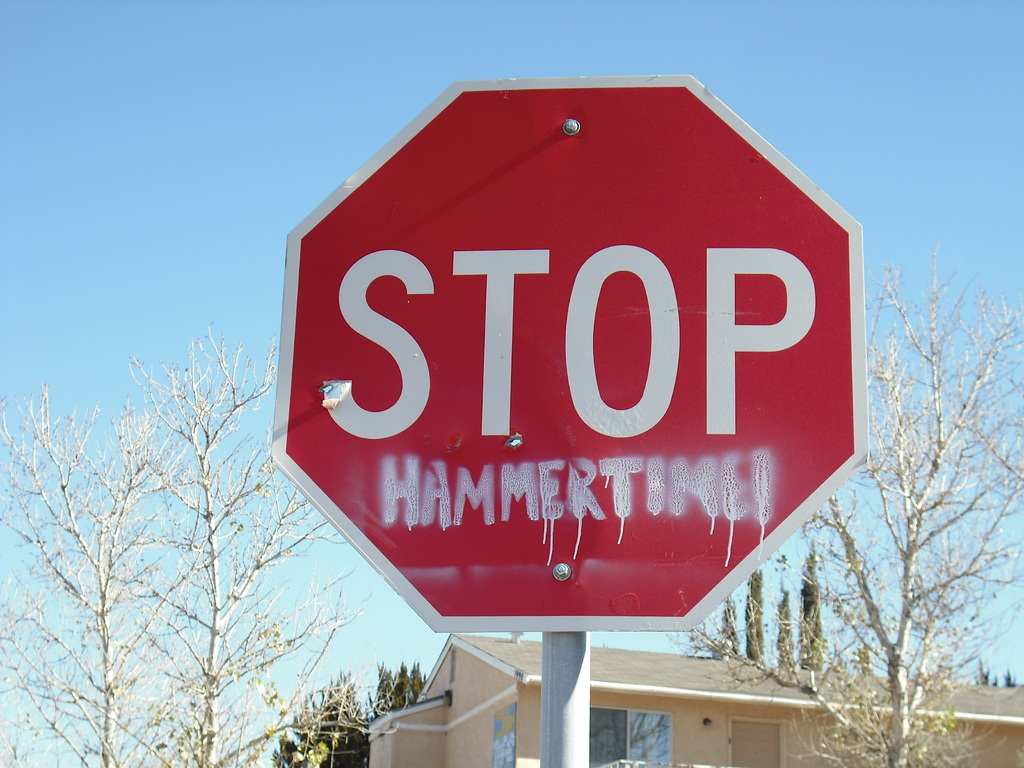stop_sign: (277, 78, 867, 632)
